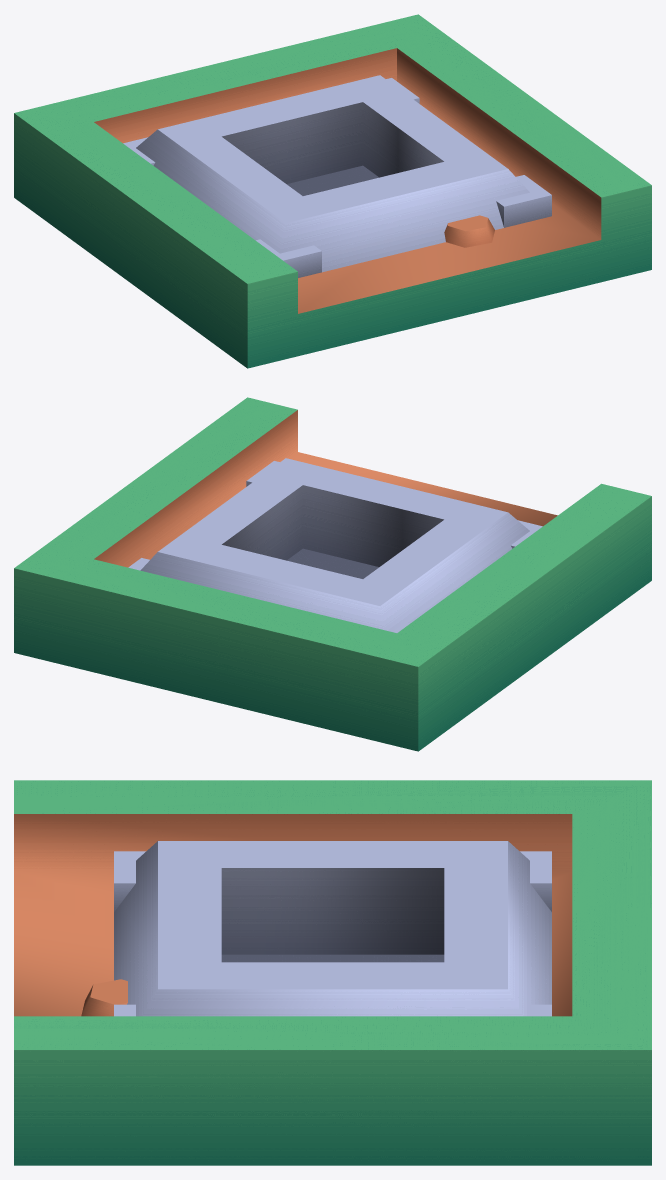
Rendered from tower-defense-kit--tile-spawn-end.glb.
3 renders of one model, top to bottom at view 1: azimuth 30°, elevation 25°; view 2: azimuth 150°, elevation 25°; view 3: azimuth 270°, elevation 25°, orthographic. The views are drawn at different scales.
Visible parts, largest first — view 1: tile-spawn-end; view 2: tile-spawn-end; view 3: tile-spawn-end.
Boxes of the visible parts, x1,y1,x2,y2 form: tile-spawn-end: (14,14,651,368); tile-spawn-end: (14,397,651,751); tile-spawn-end: (14,780,651,1165).
Bounding box in the file's own units: 1 × 0.2 × 1.
Materials: 1 (1 with a texture image).
